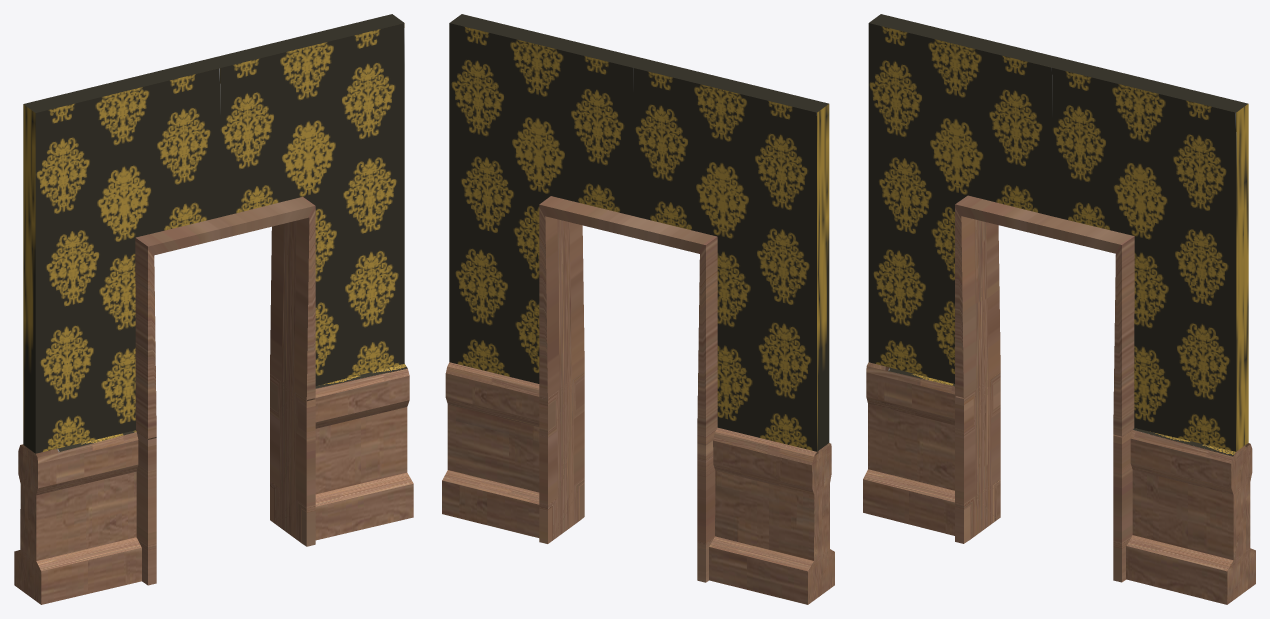
Rendered from Wall_B_Door.fbx.
3 renders of one model, left to right at view 1: azimuth 30°, elevation 25°; view 2: azimuth 150°, elevation 25°; view 3: azimuth 330°, elevation 25°, orthographic.
Parts seen in each view (by area): view 1: MWall_Small_Door_B; view 2: MWall_Small_Door_B; view 3: MWall_Small_Door_B.
Boxes of the visible parts, bbox=[...] form: MWall_Small_Door_B: bbox=[14, 14, 413, 604]; MWall_Small_Door_B: bbox=[442, 14, 834, 604]; MWall_Small_Door_B: bbox=[863, 14, 1255, 604].
Bounding box in the file's own units: 811 × 141 × 1024.
